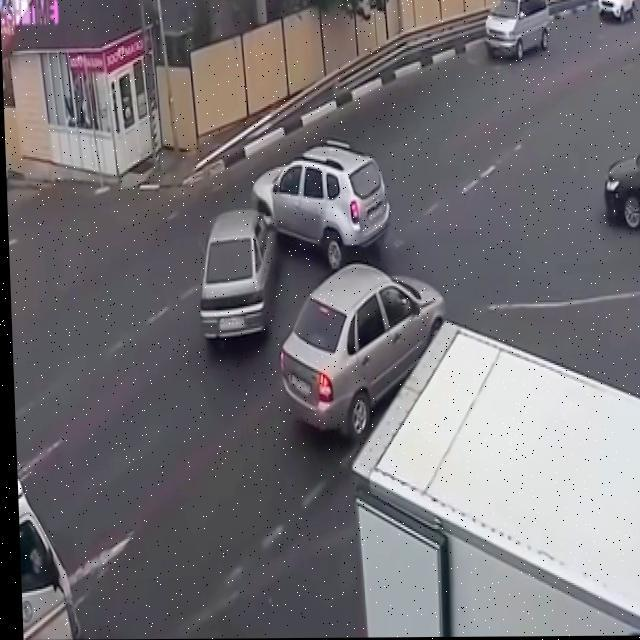multiple_accident: (203, 121, 370, 284)
normal: (234, 264, 470, 417), (471, 0, 566, 84)
